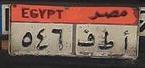4: (35, 27, 47, 51)
5: (20, 31, 34, 48)
6: (52, 28, 64, 48)
Taa: (99, 31, 115, 51)
alif: (120, 28, 130, 51)
faa: (77, 30, 96, 48)
